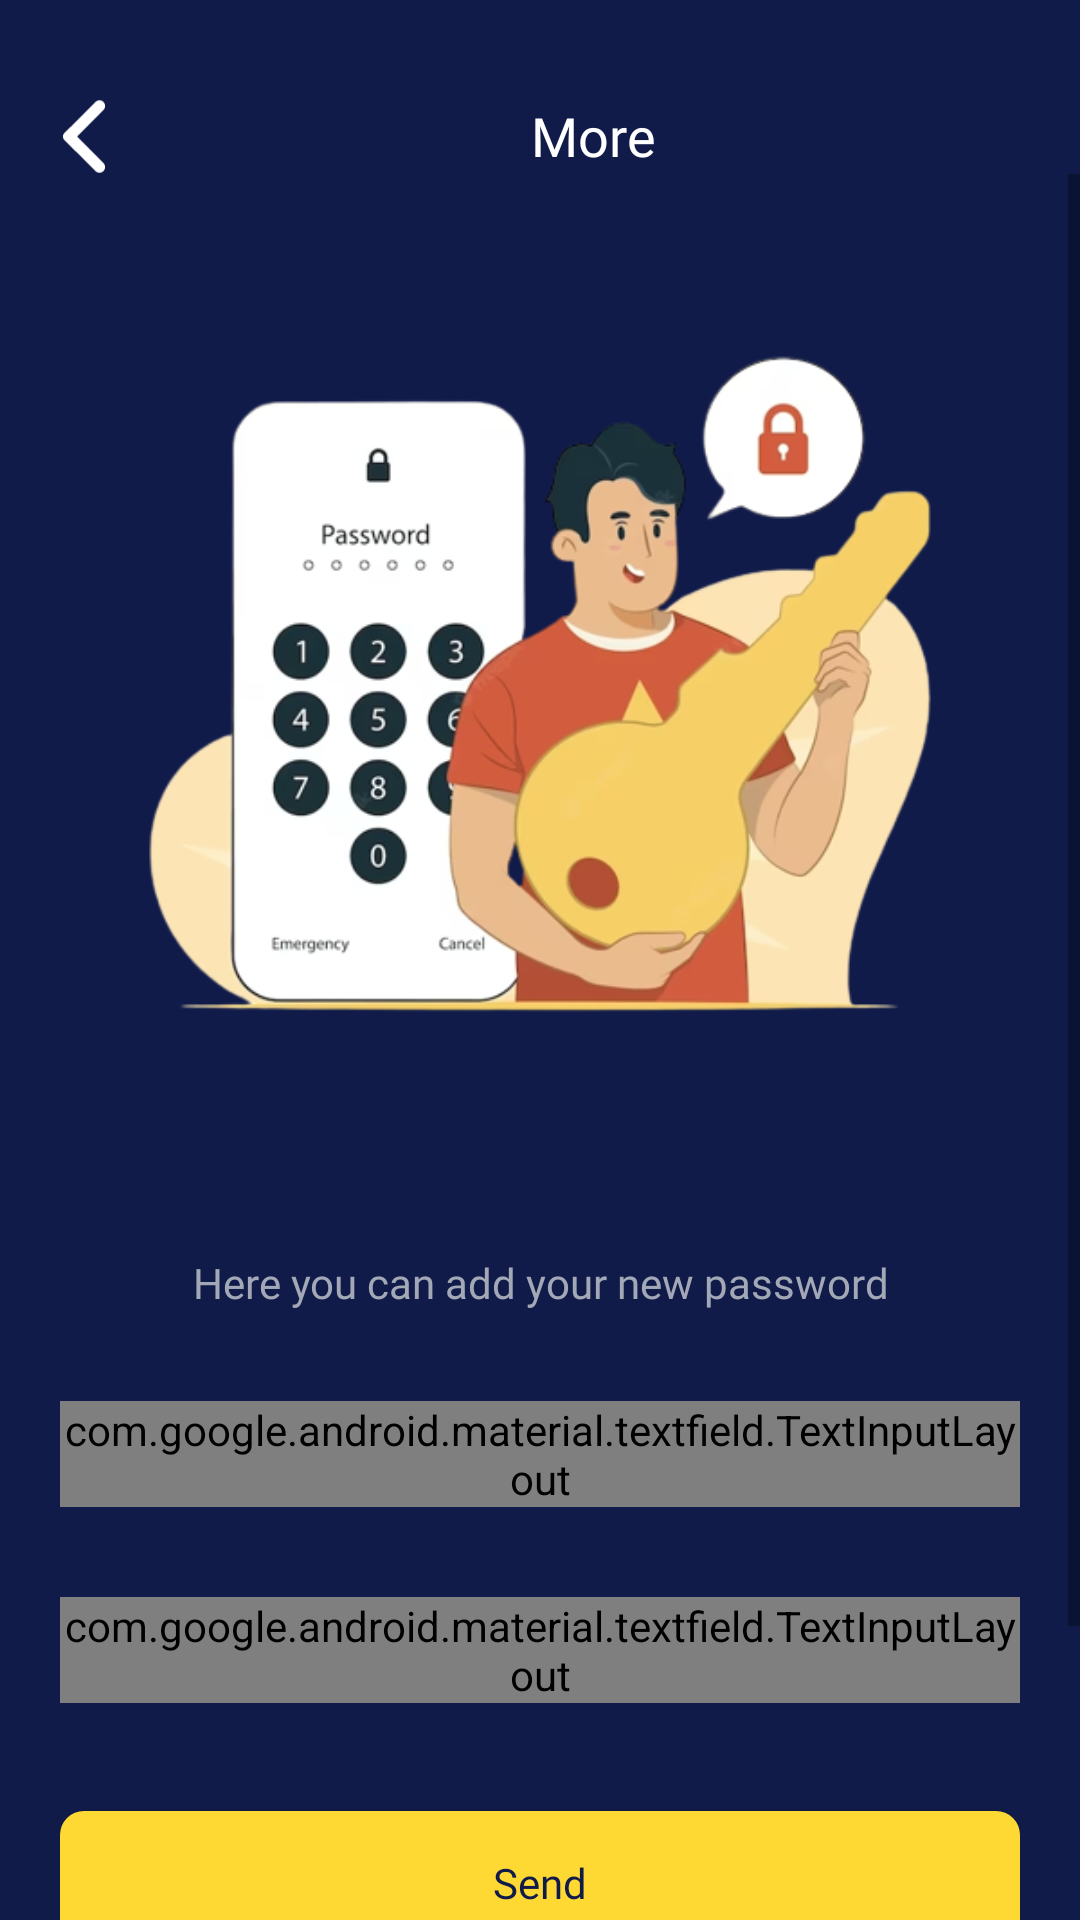

Icons on this 1080×1920 Android screen, each with its box as bbox=[x1, y1, x2, y2]:
back: bbox=[63, 100, 105, 173]
